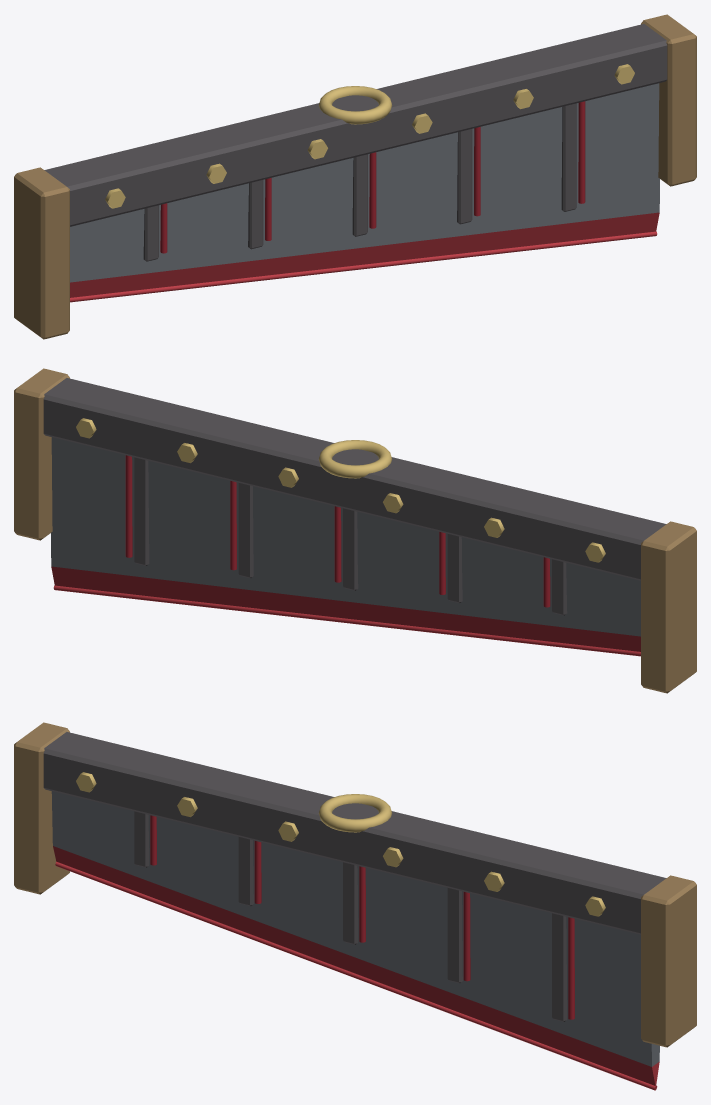
The model's file is guillotine-blade.glb.
3 renders of one model, top to bottom at view 1: azimuth 30°, elevation 25°; view 2: azimuth 150°, elevation 25°; view 3: azimuth 330°, elevation 25°, orthographic.
Visible parts, largest first — view 1: GuillotineBlade; view 2: GuillotineBlade; view 3: GuillotineBlade.
Part boxes in pixels (x1,y1,x2,y2): GuillotineBlade: (14, 14, 696, 339); GuillotineBlade: (14, 368, 696, 693); GuillotineBlade: (14, 722, 696, 1090).
Size of the model in its own units: 4.02 by 1.23 by 0.39.
